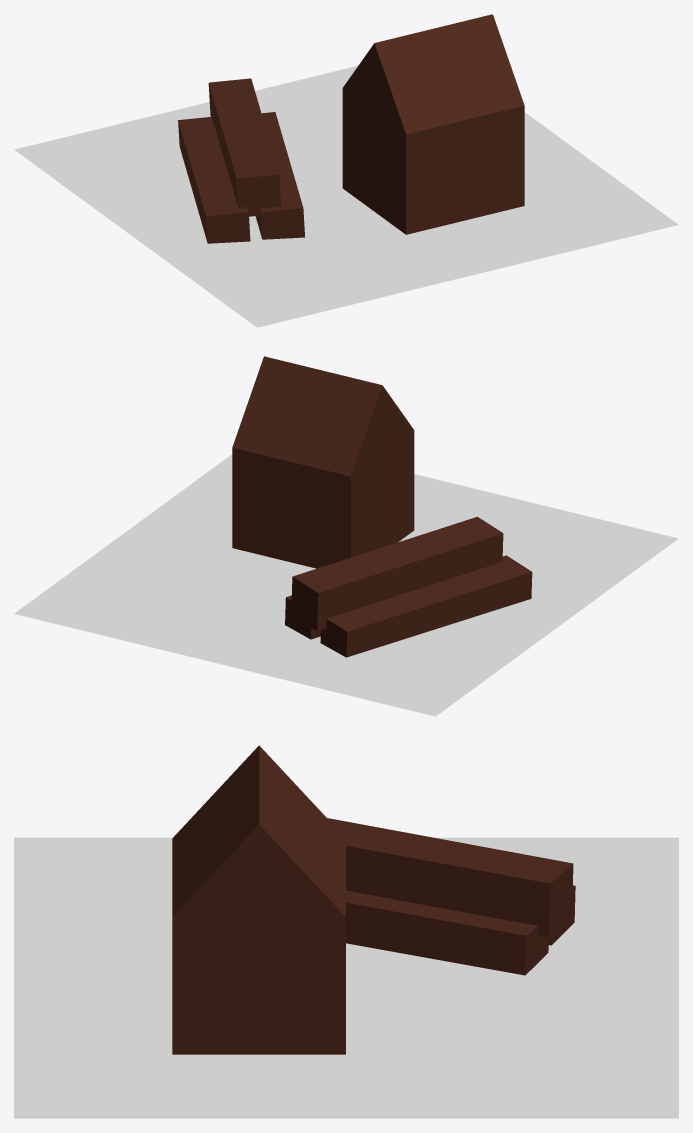
The model's file is Lumberjack_Placeholder.fbx.
3 renders of one model, top to bottom at view 1: azimuth 30°, elevation 25°; view 2: azimuth 150°, elevation 25°; view 3: azimuth 270°, elevation 25°, orthographic. The views are drawn at different scales.
Visible parts, largest first — view 1: Plane.002, Cube.012, Cube.015, Cube.014, Cube.013; view 2: Plane.002, Cube.012, Cube.015, Cube.014, Cube.013; view 3: Plane.002, Cube.012, Cube.015, Cube.013.
Part boxes in pixels (<box>): Plane.002: <box>14,65,678,327</box>; Cube.012: <box>342,14,524,234</box>; Cube.015: <box>208,78,280,216</box>; Cube.014: <box>178,117,250,243</box>; Cube.013: <box>255,112,304,239</box>; Plane.002: <box>14,454,678,716</box>; Cube.012: <box>232,356,414,568</box>; Cube.015: <box>291,516,503,630</box>; Cube.014: <box>320,555,532,657</box>; Cube.013: <box>285,595,320,639</box>; Plane.002: <box>14,837,678,1118</box>; Cube.012: <box>172,745,345,1054</box>; Cube.015: <box>327,818,573,937</box>; Cube.013: <box>346,890,548,975</box>.
Size of the model in its own units: 82.96 by 34.44 by 82.96.
